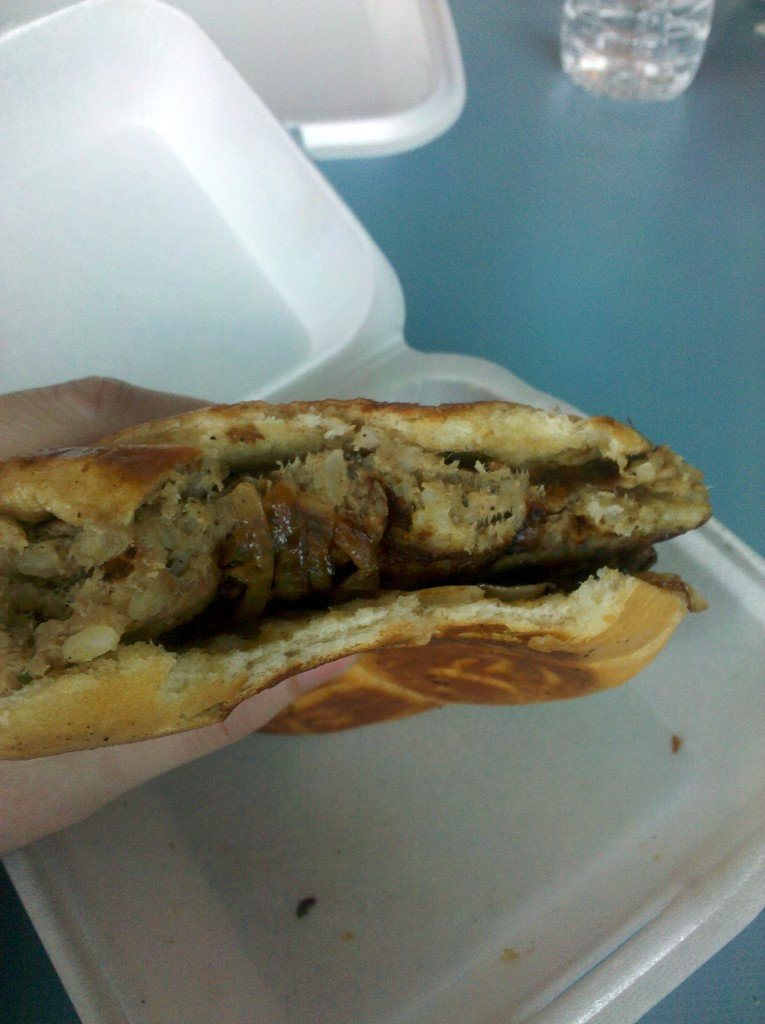sandwich: (0, 400, 715, 765)
